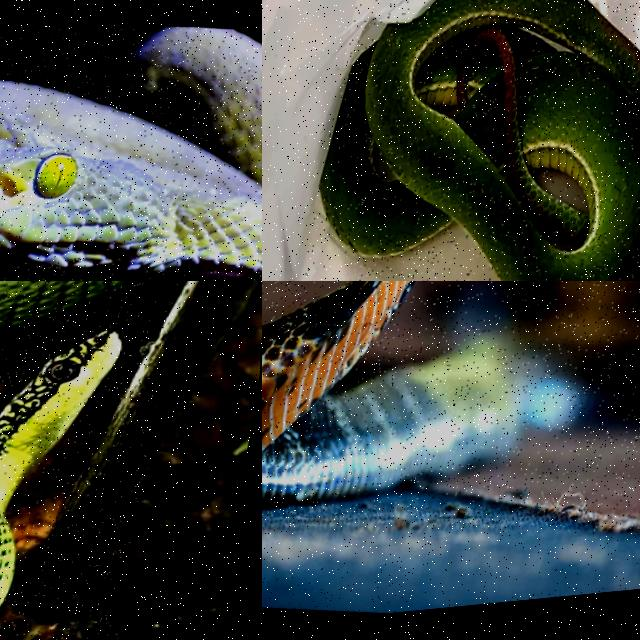Chrysopelea ornata: (0, 332, 118, 605)
Ophiophagus hannah: (262, 281, 639, 506)
Trimeresurus: (320, 0, 639, 280)
Trimeresurus macrops: (0, 28, 261, 280)
snake: (320, 0, 639, 280), (262, 281, 639, 506), (0, 28, 261, 280), (0, 332, 118, 605)
